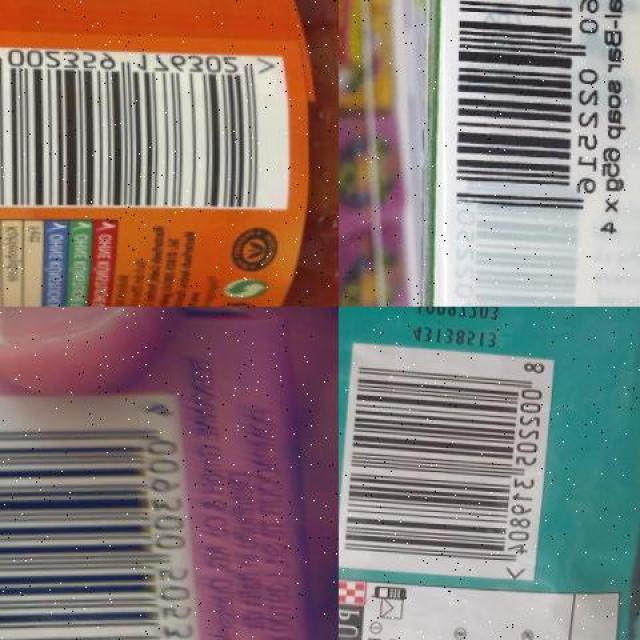Barcode: (0, 380, 209, 640), (339, 336, 556, 579), (0, 43, 287, 209), (445, 0, 604, 220)
